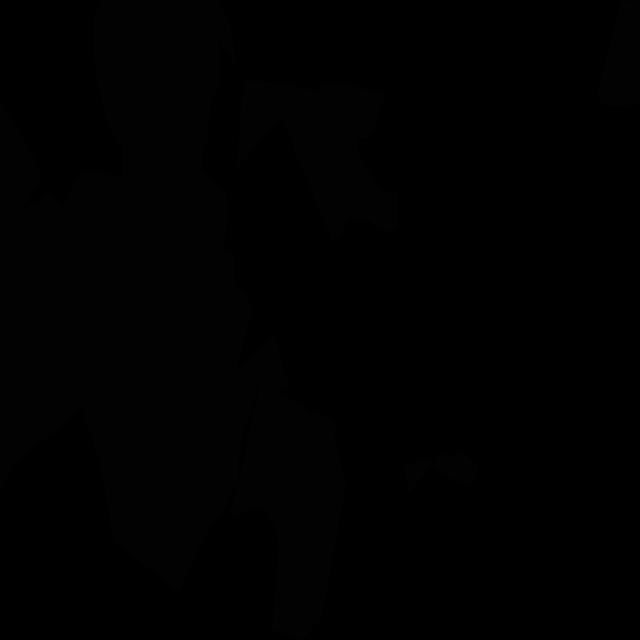cardboard: (0, 101, 290, 593), (231, 377, 346, 640), (237, 80, 398, 244), (93, 0, 239, 170), (597, 0, 640, 106), (435, 452, 478, 483), (403, 457, 435, 493)
